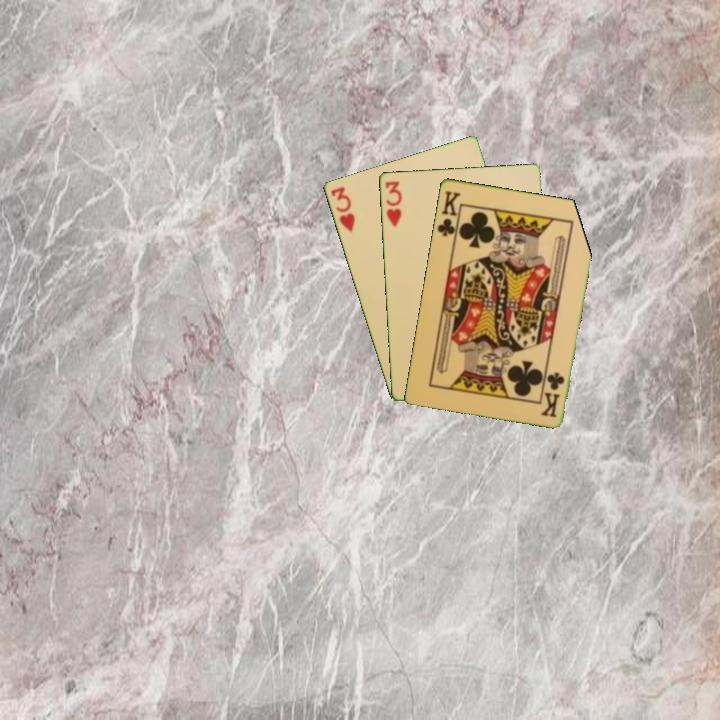3h: (327, 183, 357, 234), (381, 177, 404, 229)
Kc: (433, 187, 463, 242), (538, 368, 567, 420)
